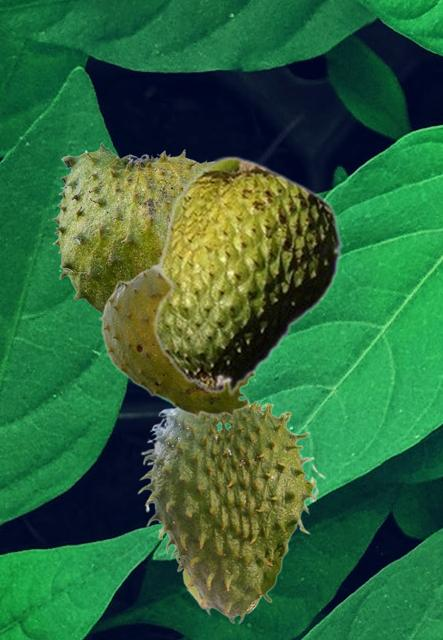guyabano: (150, 155, 342, 396), (137, 399, 325, 623), (51, 141, 209, 314), (98, 268, 256, 419)
